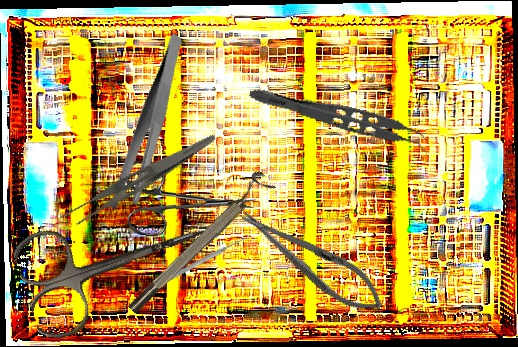Dressing Forceps: (73, 32, 227, 219), (58, 117, 218, 238)
Fixation Ring: (120, 168, 276, 317)
Iris Scissors: (8, 180, 227, 345), (122, 160, 258, 240)
Needle Holder: (232, 197, 393, 324)
Pusher: (143, 232, 252, 295)
Tissue Forceps: (244, 84, 434, 157)
